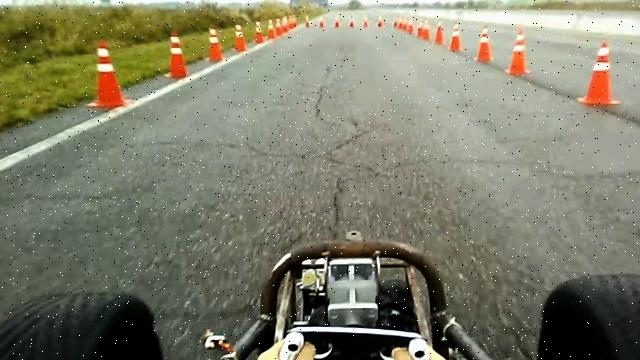red cone: (86, 39, 131, 108), (576, 41, 621, 106), (505, 28, 532, 76), (164, 30, 189, 78), (474, 26, 492, 63), (204, 26, 221, 62), (448, 22, 462, 52), (233, 24, 247, 52), (434, 21, 444, 45), (254, 20, 264, 44), (419, 19, 430, 40), (267, 19, 276, 39)
